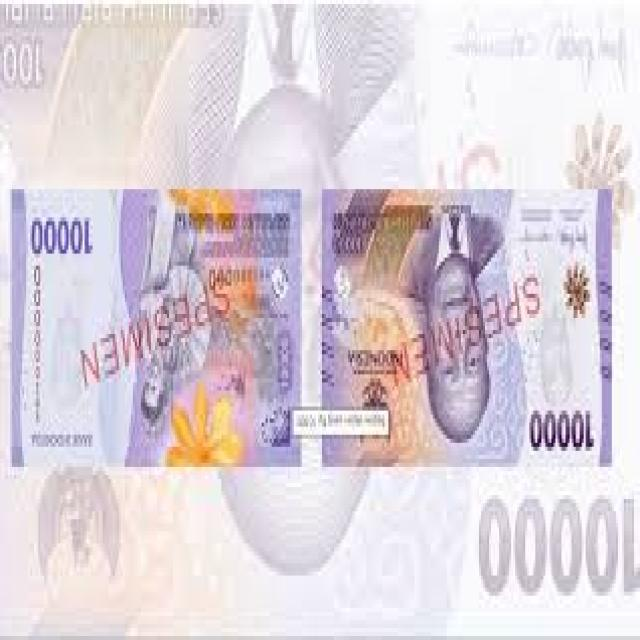sepuluh ribu rupiah: (324, 193, 612, 475), (16, 193, 298, 467)
